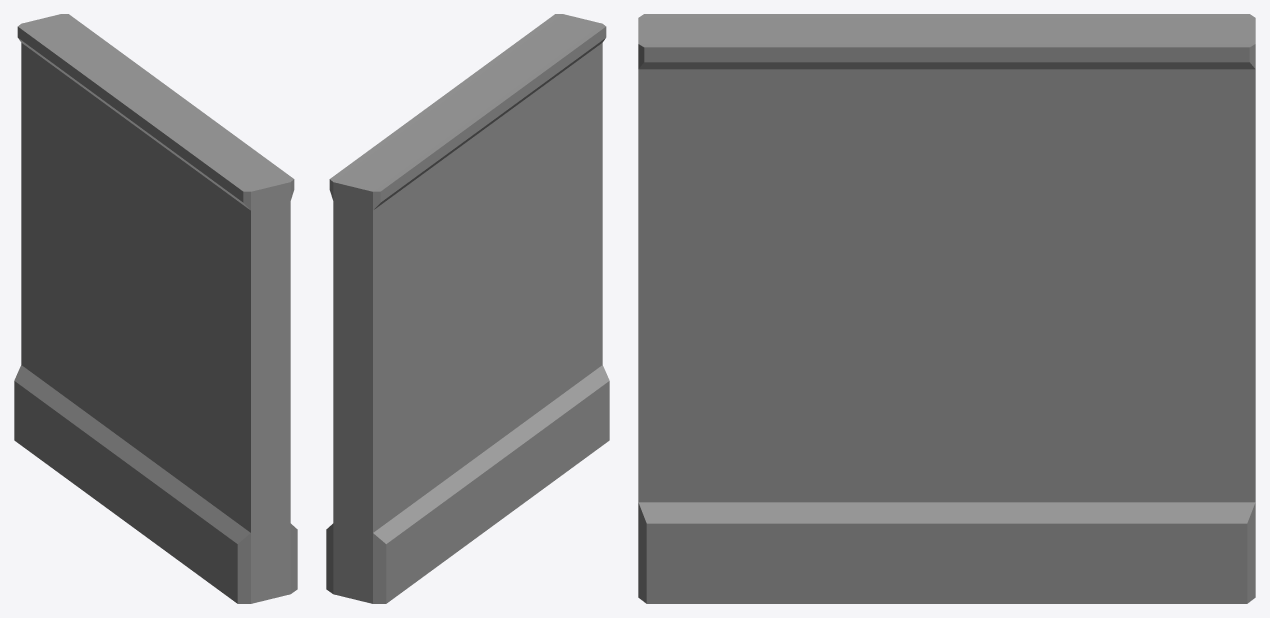
File: mur3.FBX
3 views of the same model, side by side, from view 1: azimuth 30°, elevation 25°; view 2: azimuth 150°, elevation 25°; view 3: azimuth 270°, elevation 25° (orthographic). The views are drawn at different scales.
Visible parts, largest first — view 1: Mur; view 2: Mur; view 3: Mur.
Boxes of the visible parts, box(x1,y1,x2,y2) form: Mur: box(14, 14, 297, 603); Mur: box(326, 14, 609, 603); Mur: box(638, 14, 1255, 603).
Bounding box in the file's own units: 15.08 × 99.03 × 100.
Materials: 1 (1 with a texture image).
